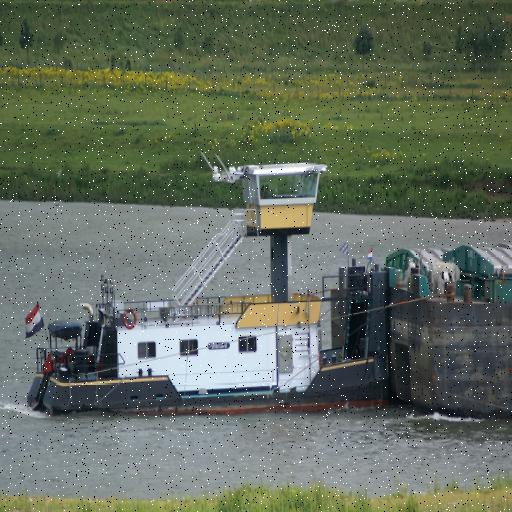tugboat: (21, 150, 401, 436)
